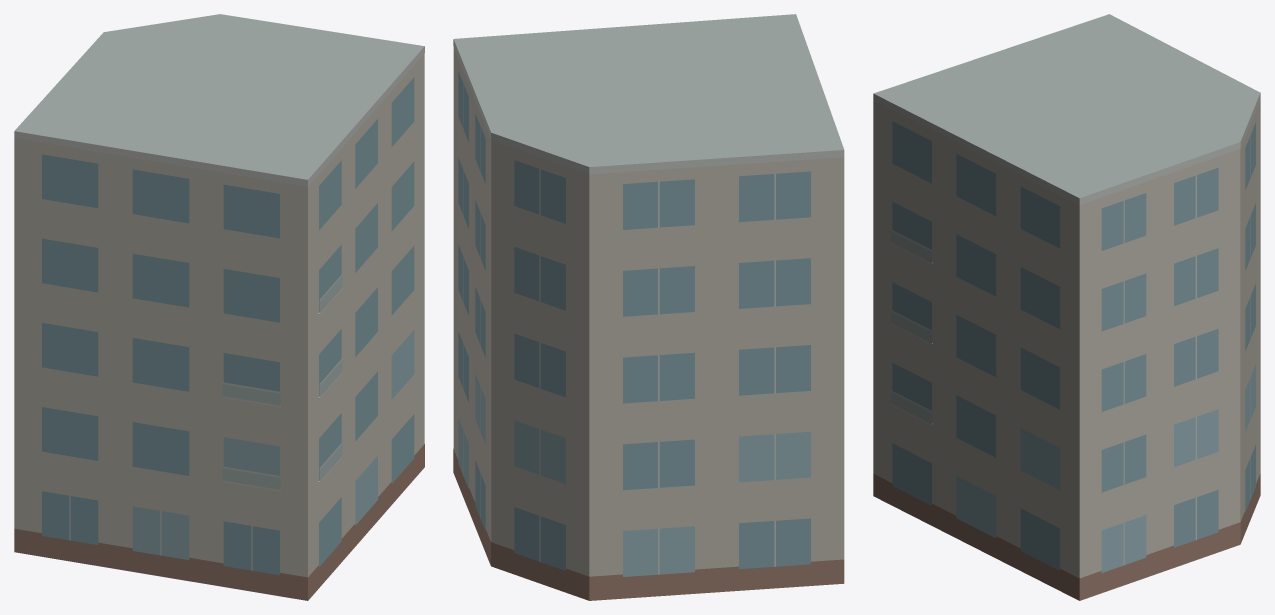
File: survey-upis-32745439.glb
3 views of the same model, side by side, from view 1: azimuth 30°, elevation 25°; view 2: azimuth 150°, elevation 25°; view 3: azimuth 270°, elevation 25° (orthographic). The views are drawn at different scales.
Visible parts, largest first — view 1: survey-upis-32745439.tmp; view 2: survey-upis-32745439.tmp; view 3: survey-upis-32745439.tmp.
Part boxes in pixels (bbox=[...]): survey-upis-32745439.tmp: bbox=[14, 14, 424, 600]; survey-upis-32745439.tmp: bbox=[453, 14, 844, 600]; survey-upis-32745439.tmp: bbox=[873, 14, 1260, 600].
Bounding box in the file's own units: 14.24 × 14.5 × 12.65.
